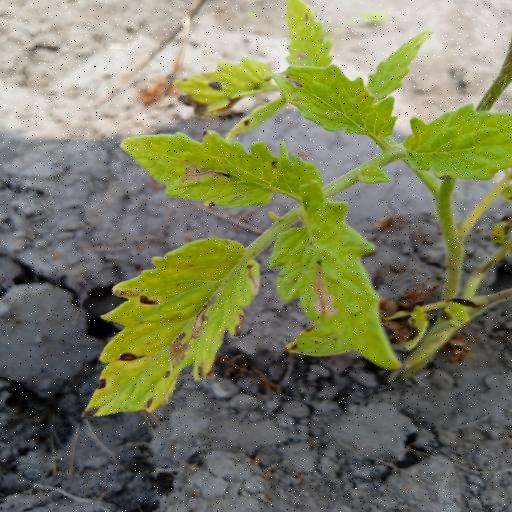Tomato_Brown_Spots: (64, 229, 266, 429)
